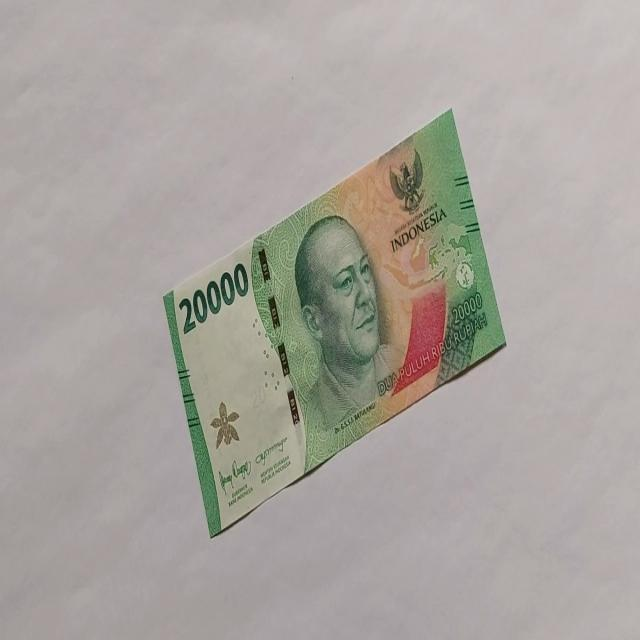dua puluh ribu rupiah: (162, 106, 508, 537), (177, 260, 249, 336)
